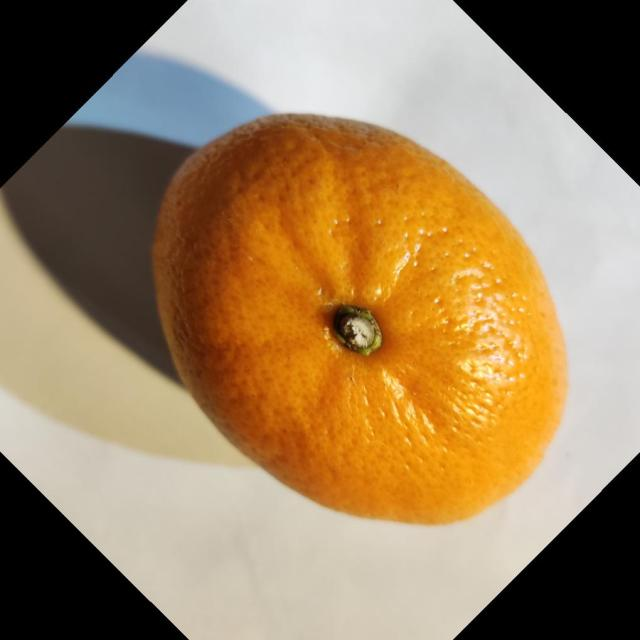fresh orange: (150, 110, 568, 526)
